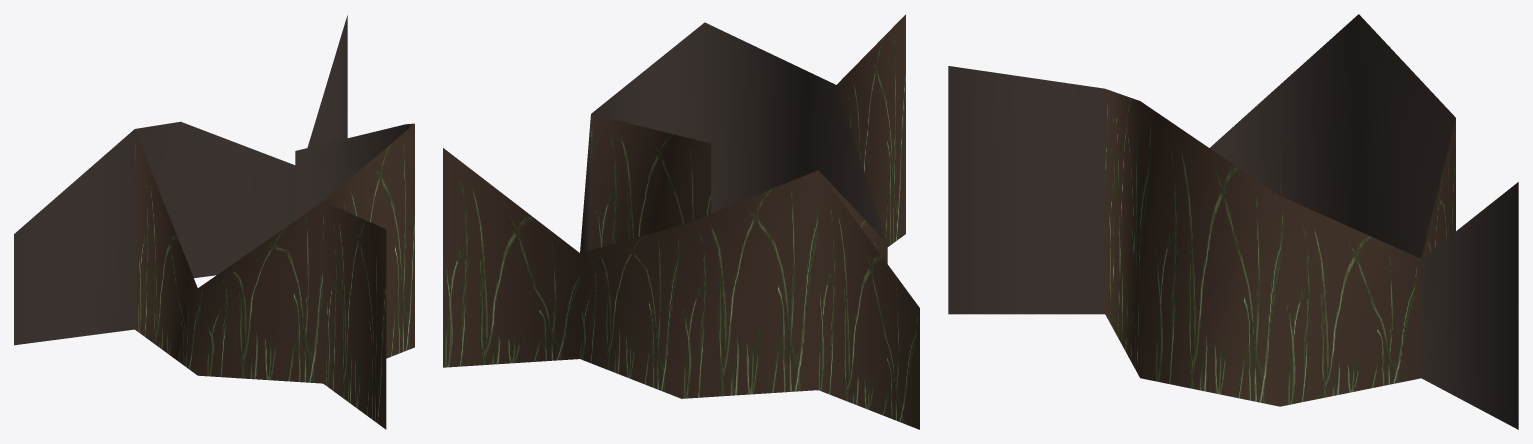
File: Mveg4aT.glb
The picture shows the model from 3 angles, left to right: view 1: azimuth 30°, elevation 25°; view 2: azimuth 150°, elevation 25°; view 3: azimuth 270°, elevation 25°; orthographic projection. The views are drawn at different scales.
Parts seen in each view (by area): view 1: 01 Mesh0, 01 Mesh0.001; view 2: 01 Mesh0, 01 Mesh0.001; view 3: 01 Mesh0.001, 01 Mesh0.
Boxes of the visible parts, x1,y1,x2,y2 form: 01 Mesh0: [14, 15, 414, 429]; 01 Mesh0.001: [14, 17, 414, 345]; 01 Mesh0: [443, 14, 919, 429]; 01 Mesh0.001: [443, 22, 886, 367]; 01 Mesh0.001: [948, 14, 1516, 428]; 01 Mesh0: [948, 14, 1518, 429].
Bounding box in the file's own units: 10.03 × 5.58 × 10.41.
Materials: 2 (1 with a texture image).
